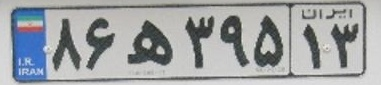character: (118, 13, 177, 74), (46, 14, 86, 76), (178, 13, 217, 72), (252, 8, 287, 73), (218, 10, 252, 75), (82, 12, 118, 73), (329, 20, 362, 72), (299, 20, 326, 74)
